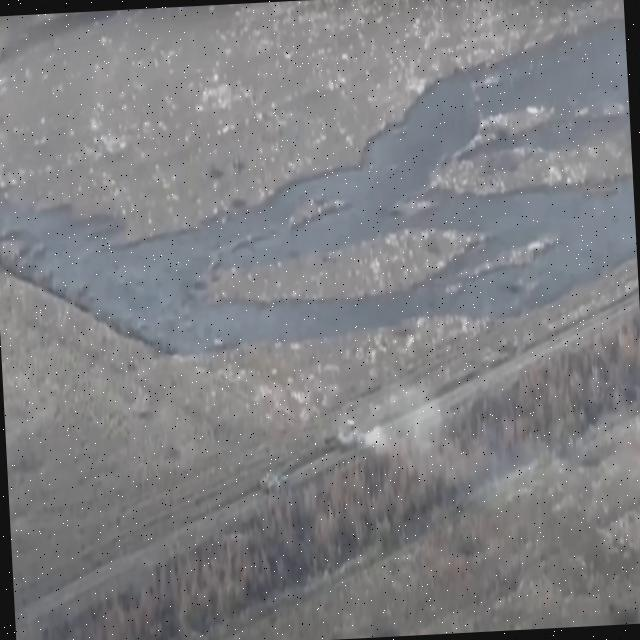AIFV: (335, 419, 363, 456)
MBT: (258, 460, 295, 500)
